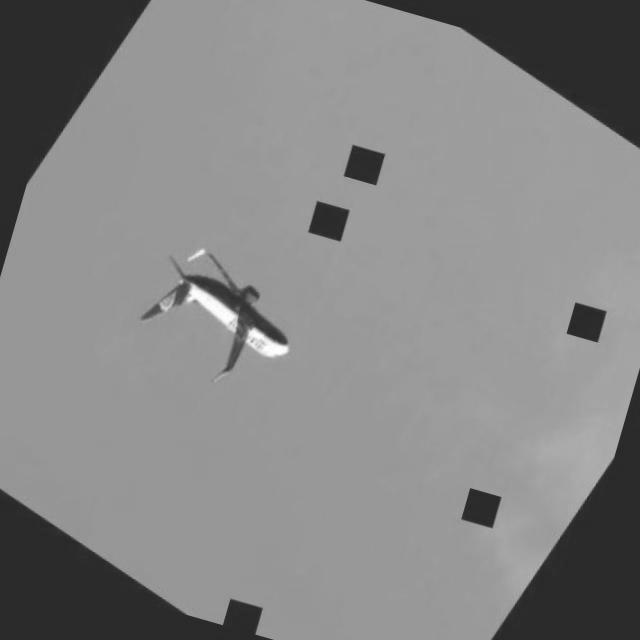aeroplane: (128, 233, 314, 392)
